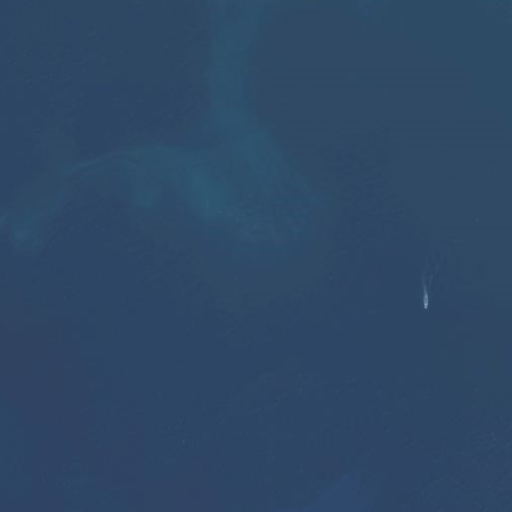ship: (419, 291, 431, 312)
